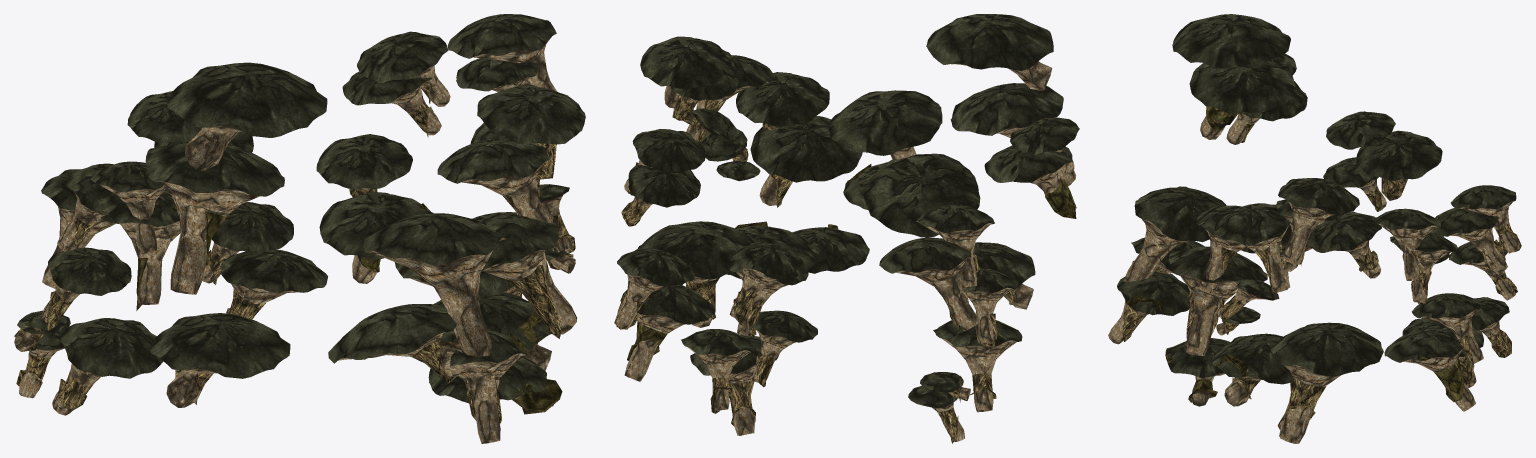
3 renders of one model, left to right at view 1: azimuth 30°, elevation 25°; view 2: azimuth 150°, elevation 25°; view 3: azimuth 270°, elevation 25°, orthographic. The views are drawn at different scales.
Parts seen in each view (by area): view 1: mesh5, mesh2, mesh4, mesh1, mesh0; view 2: mesh5, mesh2, mesh1, mesh4, mesh0; view 3: mesh5, mesh2, mesh1, mesh4, mesh0.
Boxes of the visible parts, bbox=[...] form: mesh5: bbox=[17, 14, 585, 403]; mesh2: bbox=[14, 49, 577, 443]; mesh4: bbox=[34, 34, 561, 399]; mesh1: bbox=[14, 83, 575, 423]; mesh0: bbox=[136, 203, 562, 414]; mesh5: bbox=[617, 14, 1079, 408]; mesh2: bbox=[614, 61, 1076, 441]; mesh1: bbox=[616, 95, 1015, 443]; mesh4: bbox=[627, 64, 1072, 406]; mesh0: bbox=[627, 164, 1076, 360]; mesh5: bbox=[1117, 14, 1516, 384]; mesh2: bbox=[1108, 113, 1519, 443]; mesh1: bbox=[1122, 178, 1521, 429]; mesh4: bbox=[1128, 135, 1514, 383]; mesh0: bbox=[1126, 106, 1464, 402].
Size of the model in its own units: 21.39 by 17.85 by 21.35.
